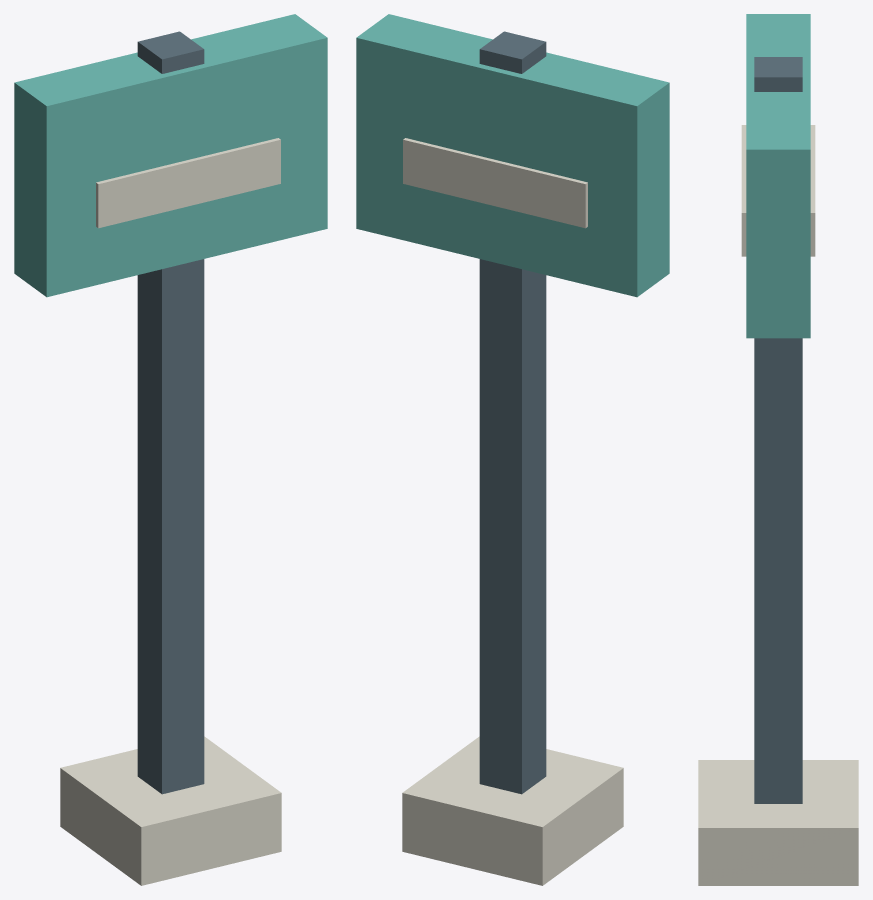
Rendered from voxel-city-districts-taxi-rank-sign-400701b1__24831.glb.
3 views of the same model, side by side, from view 1: azimuth 30°, elevation 25°; view 2: azimuth 150°, elevation 25°; view 3: azimuth 270°, elevation 25° (orthographic).
Visible parts, largest first — view 1: taxi-rank-sign-accent, taxi-rank-sign-dark, taxi-rank-sign-concrete; view 2: taxi-rank-sign-accent, taxi-rank-sign-dark, taxi-rank-sign-concrete; view 3: taxi-rank-sign-dark, taxi-rank-sign-concrete, taxi-rank-sign-accent.
Boxes of the visible parts, left/top/right/bottom form: taxi-rank-sign-accent: left=14, top=14, right=327, bottom=297; taxi-rank-sign-dark: left=137, top=31, right=204, bottom=794; taxi-rank-sign-concrete: left=60, top=138, right=281, bottom=885; taxi-rank-sign-accent: left=356, top=14, right=669, bottom=297; taxi-rank-sign-dark: left=479, top=31, right=546, bottom=794; taxi-rank-sign-concrete: left=402, top=138, right=623, bottom=885; taxi-rank-sign-dark: left=754, top=57, right=802, bottom=803; taxi-rank-sign-concrete: left=698, top=125, right=858, bottom=885; taxi-rank-sign-accent: left=746, top=14, right=810, bottom=338.
Size of the model in its own units: 1 by 2.7 by 0.5.
